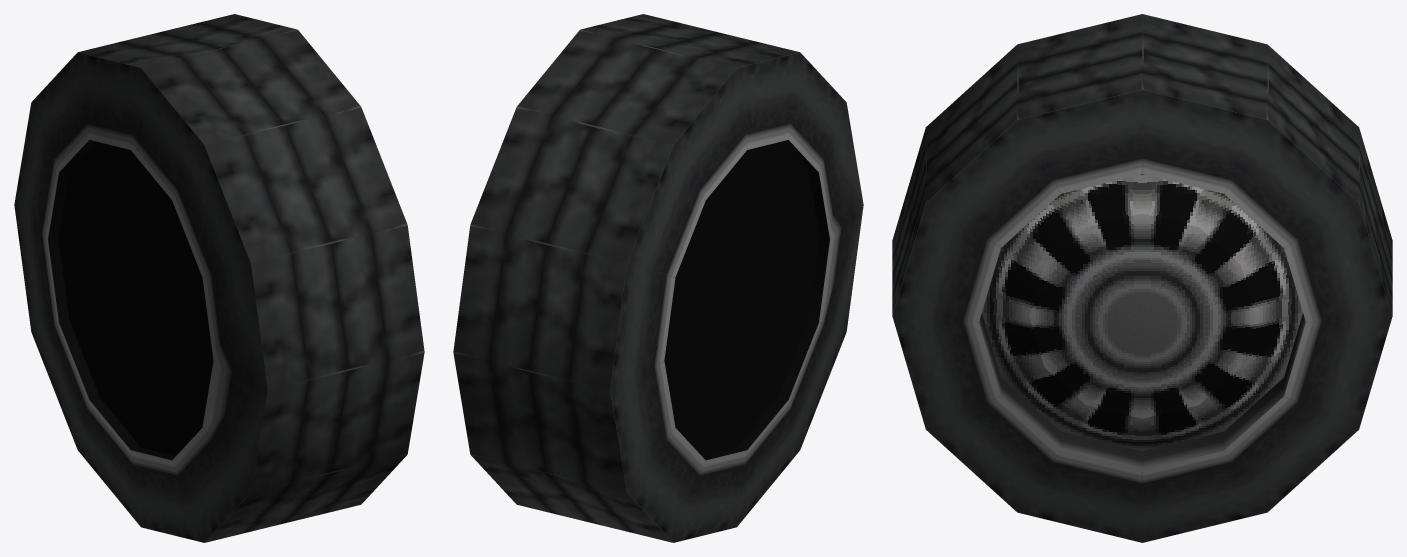
Rendered from DefaultWheel_admiral.glb.
The picture shows the model from 3 angles, left to right: view 1: azimuth 30°, elevation 25°; view 2: azimuth 150°, elevation 25°; view 3: azimuth 270°, elevation 25°; orthographic projection.
Visible parts, largest first — view 1: wheel; view 2: wheel; view 3: wheel.
Boxes of the visible parts, x1,y1,x2,y2 form: wheel: (14, 14, 424, 542); wheel: (453, 14, 863, 542); wheel: (892, 14, 1392, 542).
Size of the model in its own units: 0.3027 by 0.7 by 0.7.
Materials: 4 (3 with a texture image).
